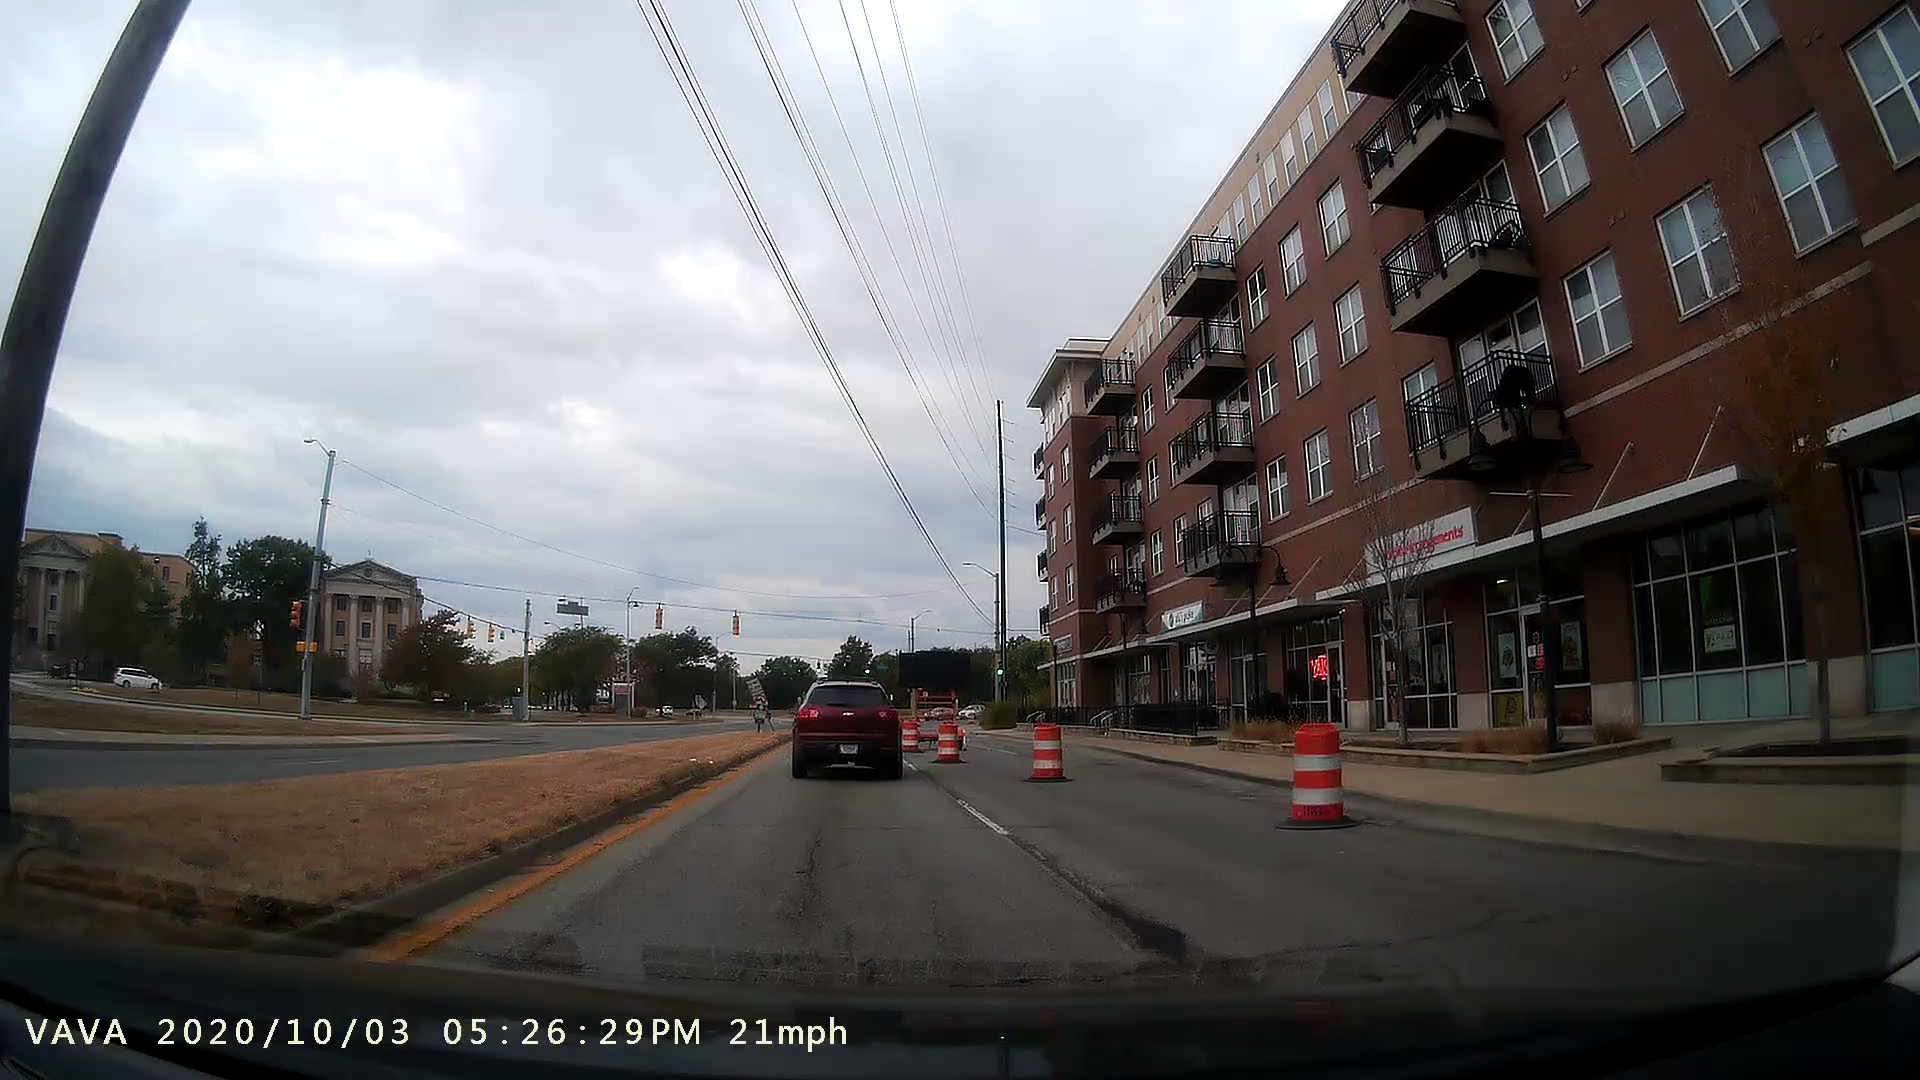const_barrel: (1265, 709, 1374, 840), (1021, 717, 1073, 791), (932, 717, 969, 767)
